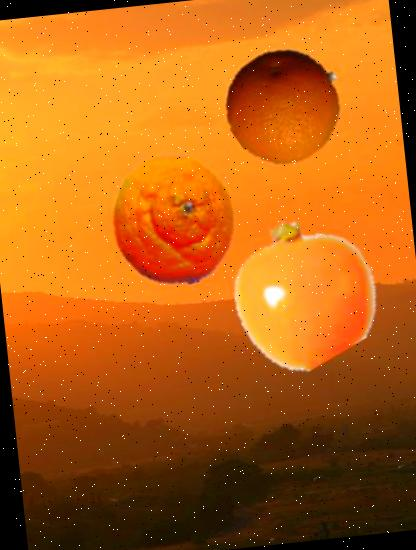Mandarine: (101, 148, 246, 293)
Orange: (220, 41, 350, 171)
Physalis: (224, 212, 382, 370)
